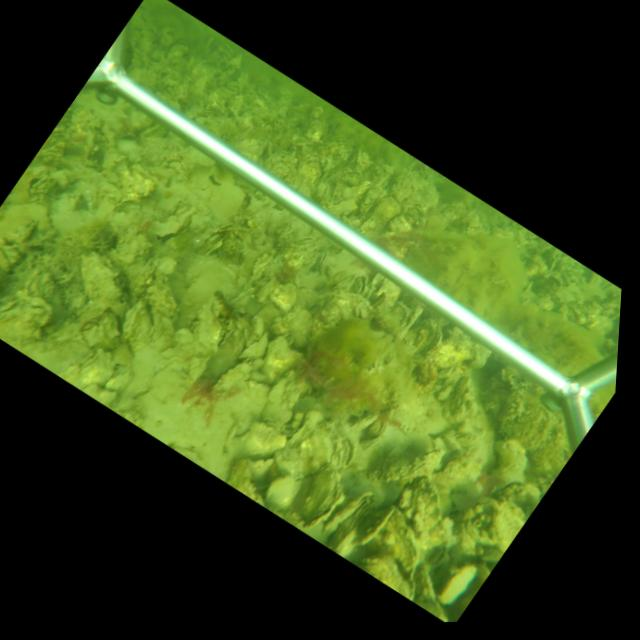Oyster-Closed: (275, 420, 348, 478), (297, 471, 344, 528), (0, 294, 53, 343), (321, 491, 372, 536), (349, 506, 396, 545), (411, 318, 442, 359), (401, 304, 419, 338), (285, 235, 318, 253), (362, 436, 380, 452), (315, 249, 329, 269)
Oyster-Indeterminate: (376, 446, 443, 484), (120, 300, 156, 352), (438, 563, 480, 607), (209, 361, 252, 396)
